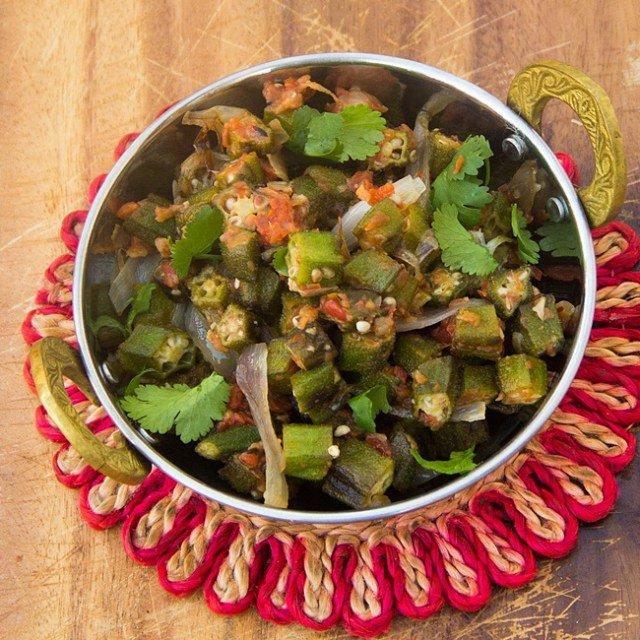Bhindi Masala: (90, 66, 590, 506)
